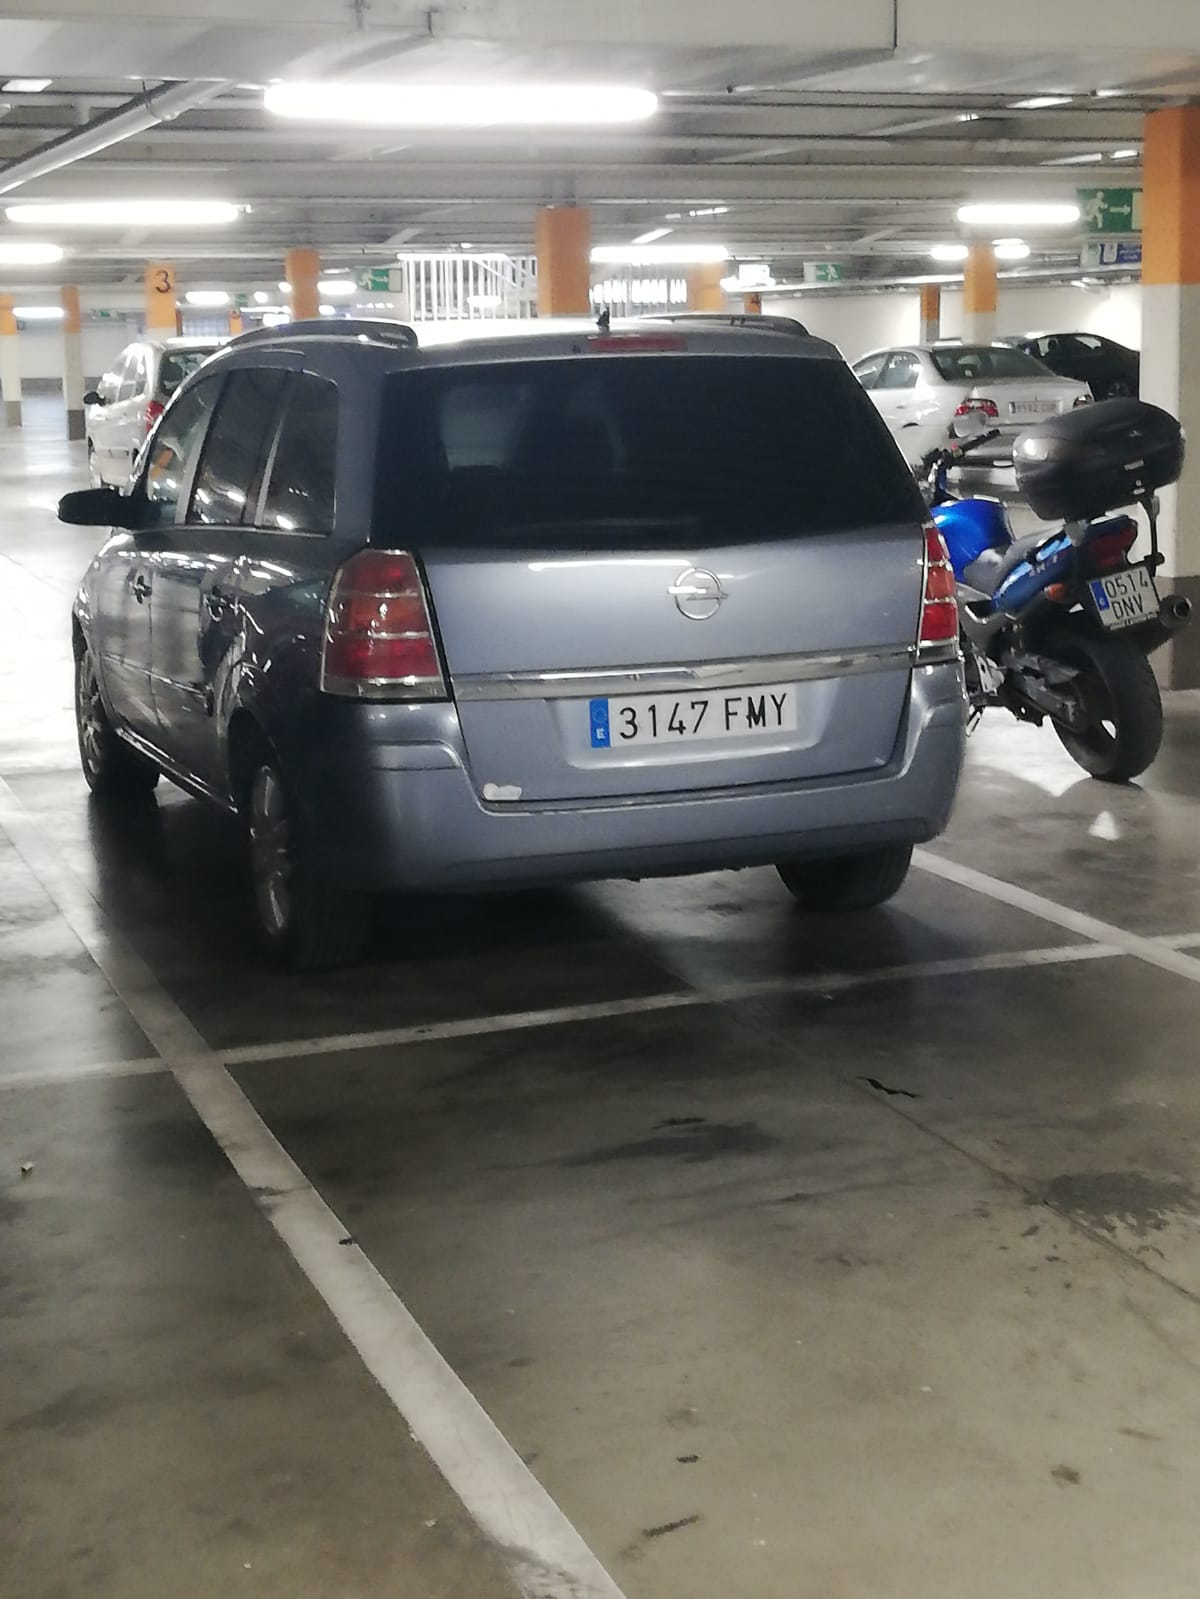Car: (69, 323, 962, 915)
Plate: (584, 699, 796, 749)
